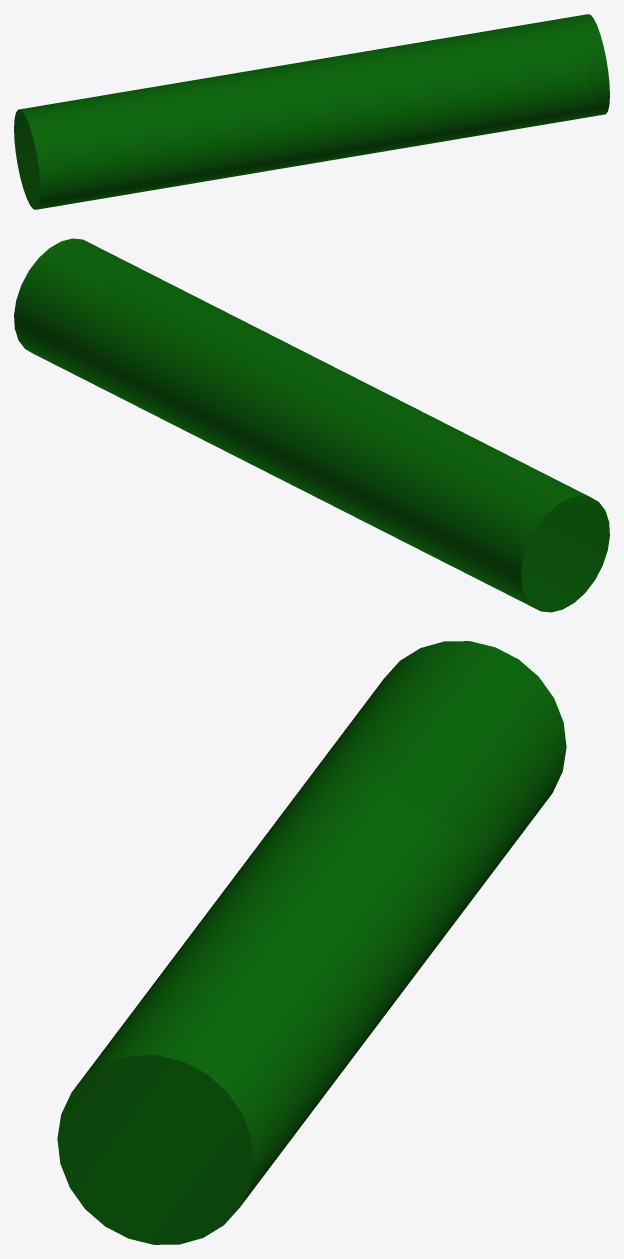
Rendered from Event_191826238_jet_8.fbx.
The picture shows the model from 3 angles, top to bottom: view 1: azimuth 30°, elevation 25°; view 2: azimuth 150°, elevation 25°; view 3: azimuth 270°, elevation 25°; orthographic projection. The views are drawn at different scales.
Visible parts, largest first — view 1: Model; view 2: Model; view 3: Model.
Boxes of the visible parts, x1=… form: Model: x1=14, y1=14, x2=609, y2=209; Model: x1=14, y1=238, x2=609, y2=612; Model: x1=57, y1=641, x2=566, y2=1244.
Bounding box in the file's own units: 0.2335 × 0.0541 × 0.0999.
